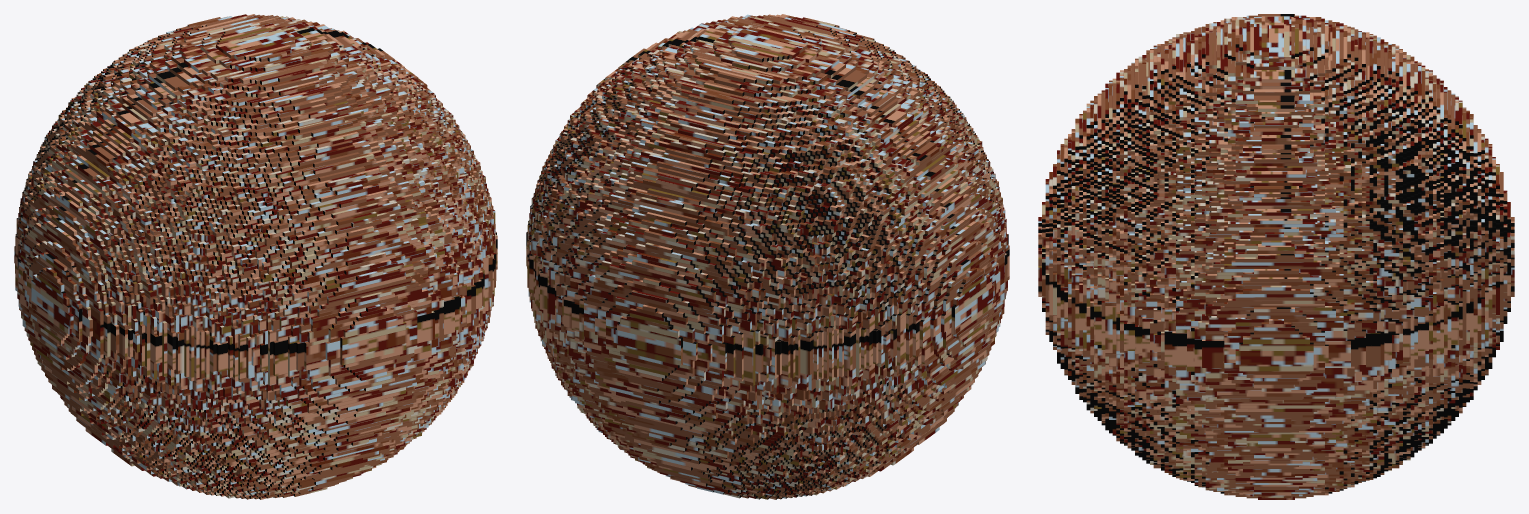
Rendered from Jupiter 1.fbx.
3 renders of one model, left to right at view 1: azimuth 30°, elevation 25°; view 2: azimuth 150°, elevation 25°; view 3: azimuth 270°, elevation 25°, orthographic.
Parts seen in each view (by area): view 1: Jupiter_1; view 2: Jupiter_1; view 3: Jupiter_1.
Part boxes in pixels (x1,y1,x2,y2): Jupiter_1: [14, 14, 497, 499]; Jupiter_1: [526, 14, 1009, 499]; Jupiter_1: [1038, 14, 1514, 499].
Bounding box in the file's own units: 128 × 128 × 128.
Materials: 1 (1 with a texture image).
